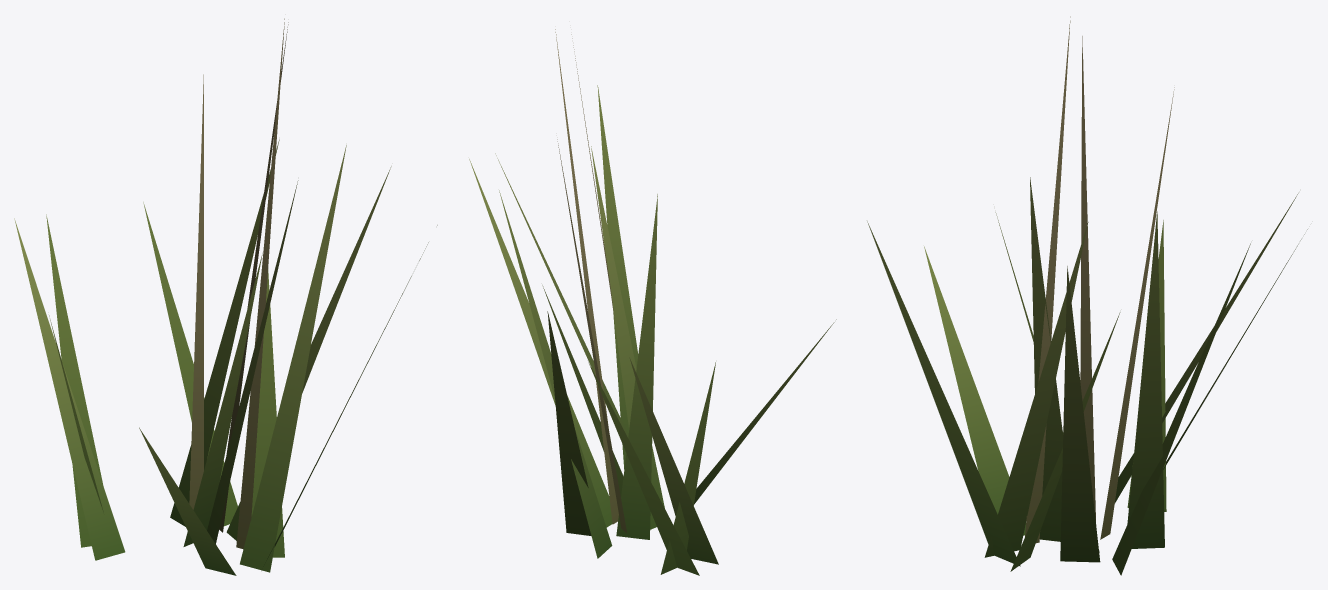
Rendered from env_meadow.glb.
3 views of the same model, side by side, from view 1: azimuth 30°, elevation 25°; view 2: azimuth 150°, elevation 25°; view 3: azimuth 270°, elevation 25° (orthographic). The views are drawn at different scales.
Visible parts, largest first — view 1: env_meadow; view 2: env_meadow; view 3: env_meadow.
Boxes of the visible parts, x1,y1,x2,y2 form: env_meadow: (14,18,437,575); env_meadow: (469,29,836,575); env_meadow: (867,16,1307,575).
Bounding box in the file's own units: 0.7115 × 1.1 × 0.7804.
